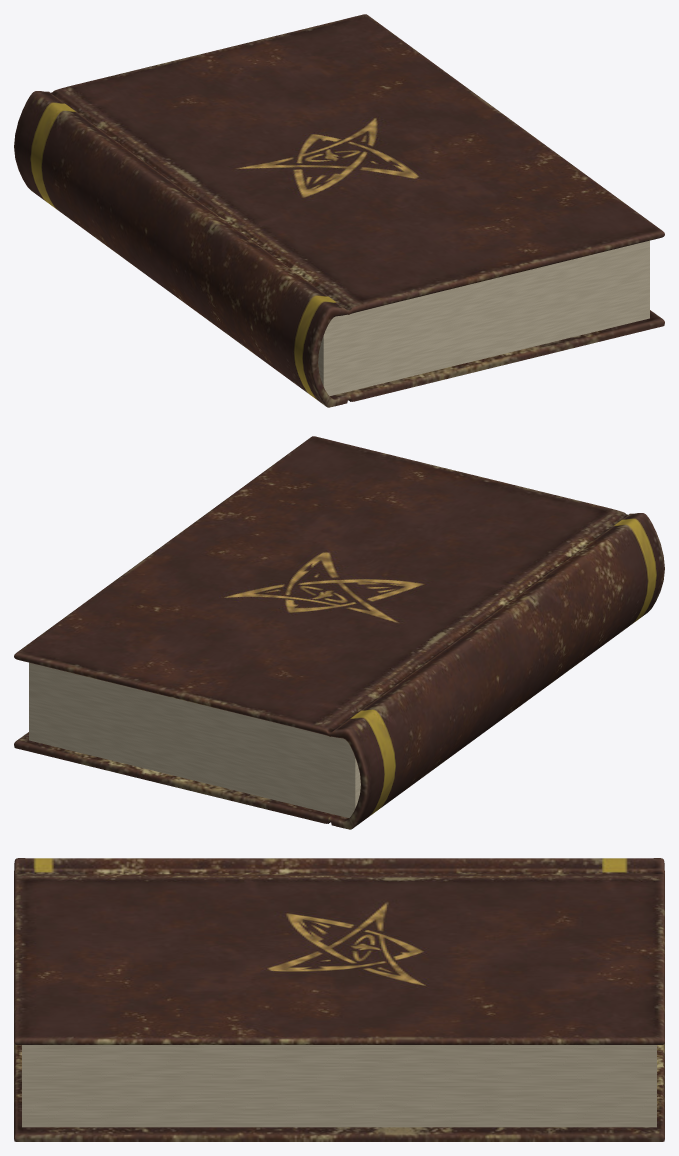
Rendered from notebook-opening-web.glb.
3 renders of one model, top to bottom at view 1: azimuth 30°, elevation 25°; view 2: azimuth 150°, elevation 25°; view 3: azimuth 270°, elevation 25°, orthographic. The views are drawn at different scales.
Parts seen in each view (by area): view 1: Book_Cover_Spine, Book_Page_Blocks; view 2: Book_Cover_Spine, Book_Page_Blocks; view 3: Book_Cover_Spine, Book_Page_Blocks.
Boxes of the visible parts, box(x1,y1,x2,y2) form: Book_Cover_Spine: box(14, 14, 664, 407); Book_Page_Blocks: box(318, 240, 649, 395); Book_Cover_Spine: box(14, 436, 664, 829); Book_Page_Blocks: box(29, 662, 360, 817); Book_Cover_Spine: box(14, 858, 664, 1141); Book_Page_Blocks: box(22, 1045, 656, 1127).
Bounding box in the file's own units: 0.1773 × 0.047 × 0.2595.
Materials: 4 (3 with a texture image).
